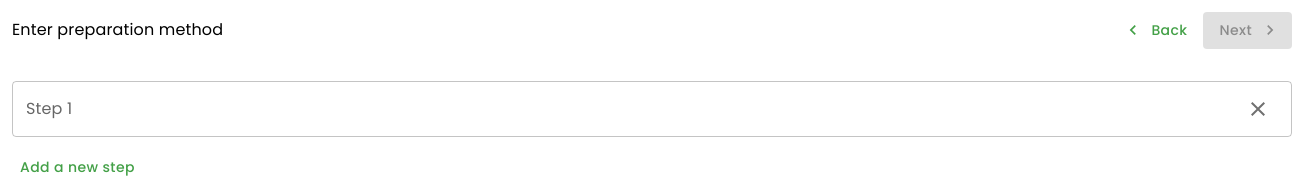
Test: PreparationMethod Component › should enable the Next button if at least one preparation step is filled
Type "Preheat the oven" into the field labelled "Step 1". click: (625, 108)
box: [12,80,1238,136]
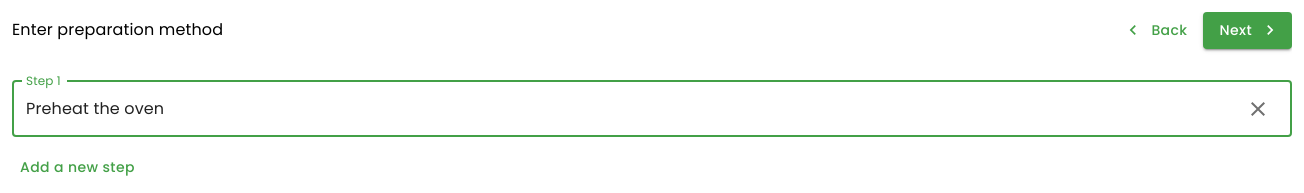
Result: the button "Next" is enabled at [1204,12,1292,48]
